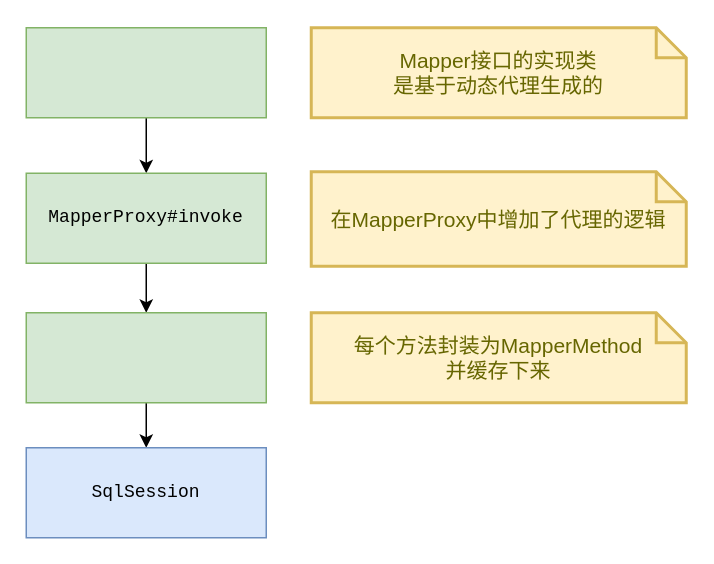
The diagram is 714 pixels wide and 564 high, and some of its shapes have lost their labels. Here are the shapes that lost their labels. From the top down, the centre of each, then its label:
(x=145, y=72): Mapper接口
(x=145, y=357): MapperMethod#execute
